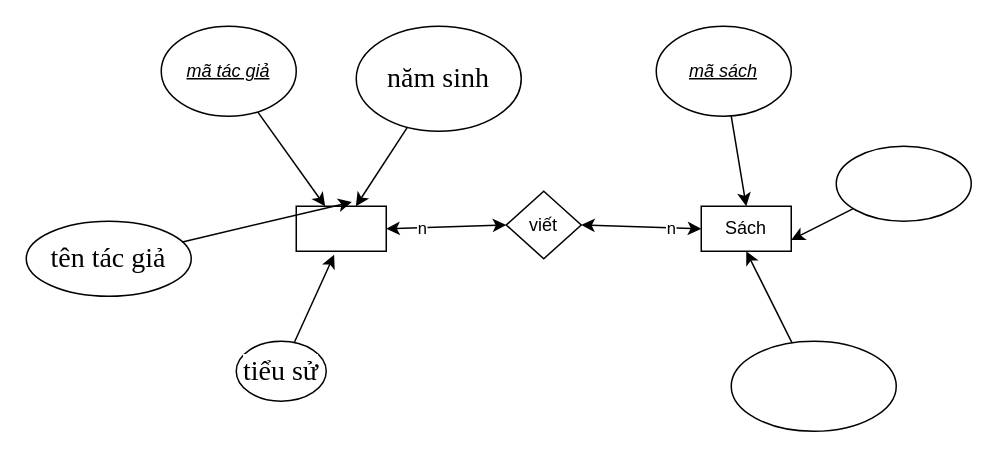
Some shapes in this 998 by 458 pixel diagram are drawn without their labels. The centre of each missing label's shape, as x and y in pixels:
năm xuất bản: pixel 813 385
Tác giả: pixel 340 228
tên sách: pixel 903 183
